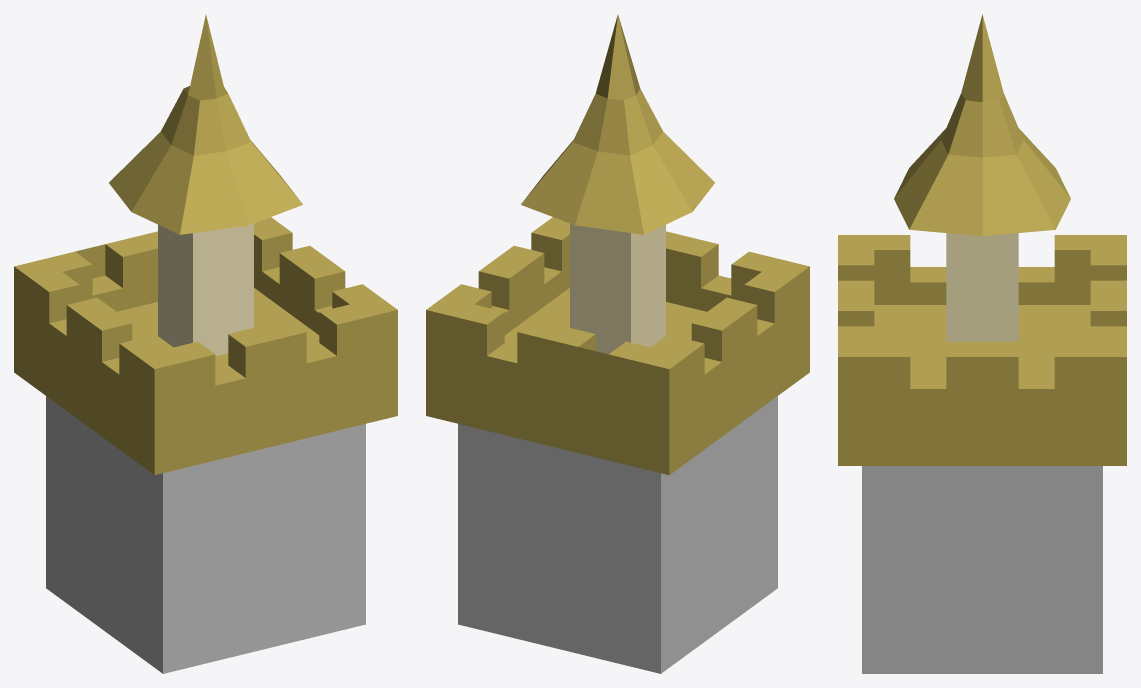
Rendered from tower.obj.
3 renders of one model, left to right at view 1: azimuth 30°, elevation 25°; view 2: azimuth 150°, elevation 25°; view 3: azimuth 270°, elevation 25°, orthographic. The views are drawn at different scales.
Parts seen in each view (by area): view 1: Cube.001; view 2: Cube.001; view 3: Cube.001.
Boxes of the visible parts, x1=… form: Cube.001: x1=14, y1=15, x2=397, y2=673; Cube.001: x1=426, y1=15, x2=809, y2=673; Cube.001: x1=838, y1=14, x2=1126, y2=673.
Size of the model in its own units: 2.4 by 5.58 by 2.4.
Materials: 2 (1 with a texture image).
